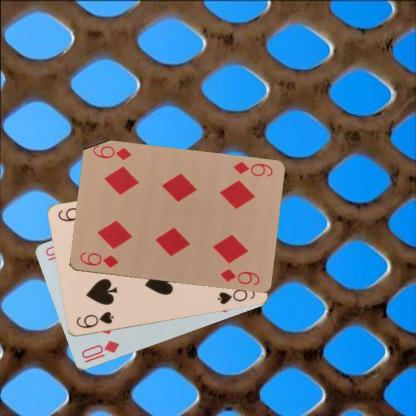10d: (78, 338, 121, 361)
6d: (230, 159, 274, 178), (76, 250, 119, 269)
6s: (73, 309, 115, 330)
